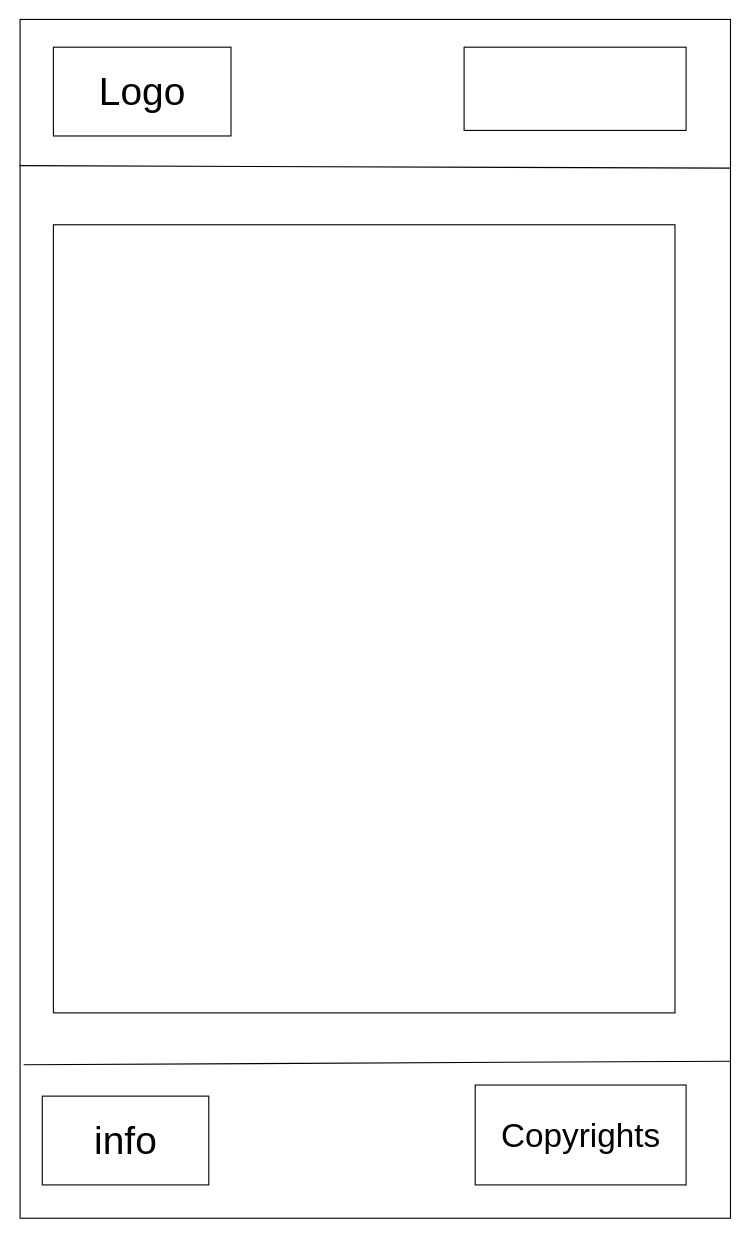
Image size: 751x1238. Some labels were removed from this diagram. Here are the shapes that lost their labels. From the top down, the centre of each, then its label:
At [574,88]: "Nav Links".
At [363,618]: "Form om medewerker toe te voegen in de DB".
